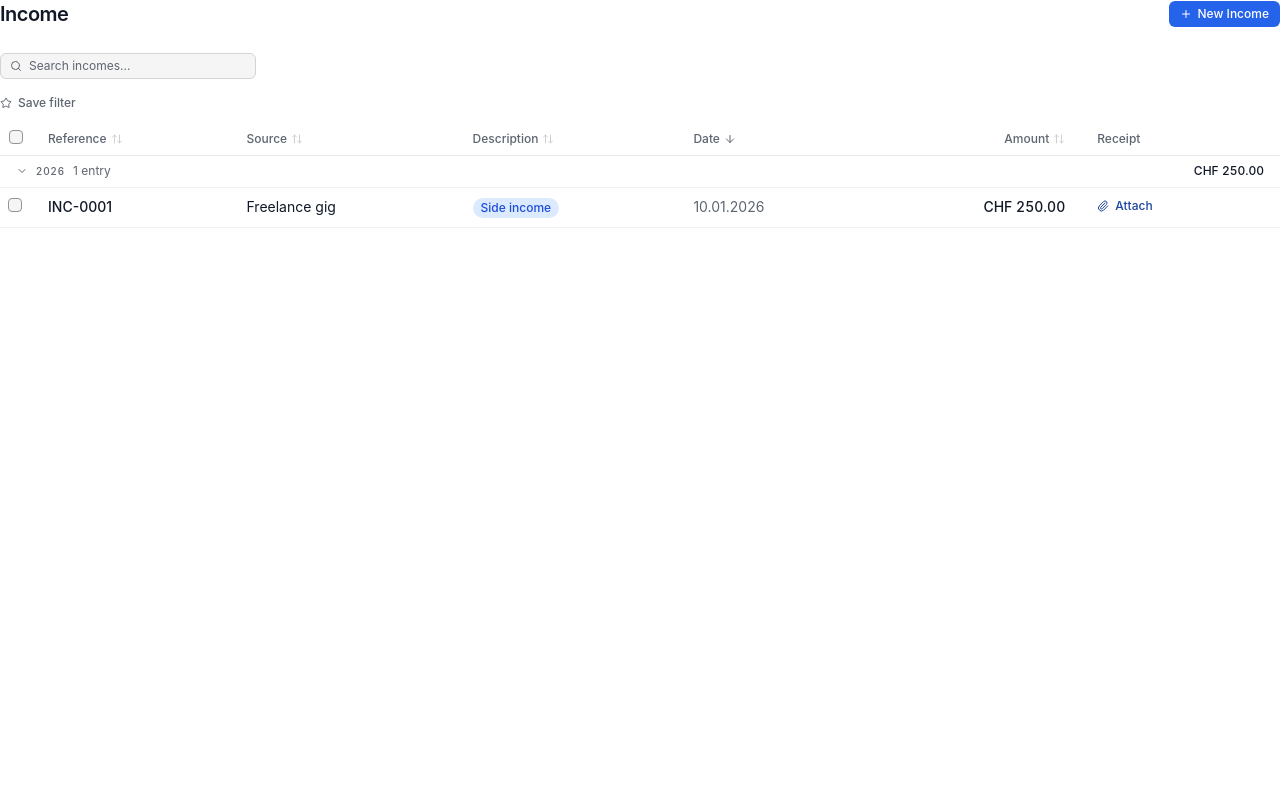
Test: Income category labels › shows the translated label on the row badge and in the edit form, agreeing with each other (EN)
The width and height of the screenshot is (1280, 800).
Check: the text "Side income" is shown, box [481,200,551,216]
Right-click the text "Freelance gig": (640,207) [0,187,1279,227]
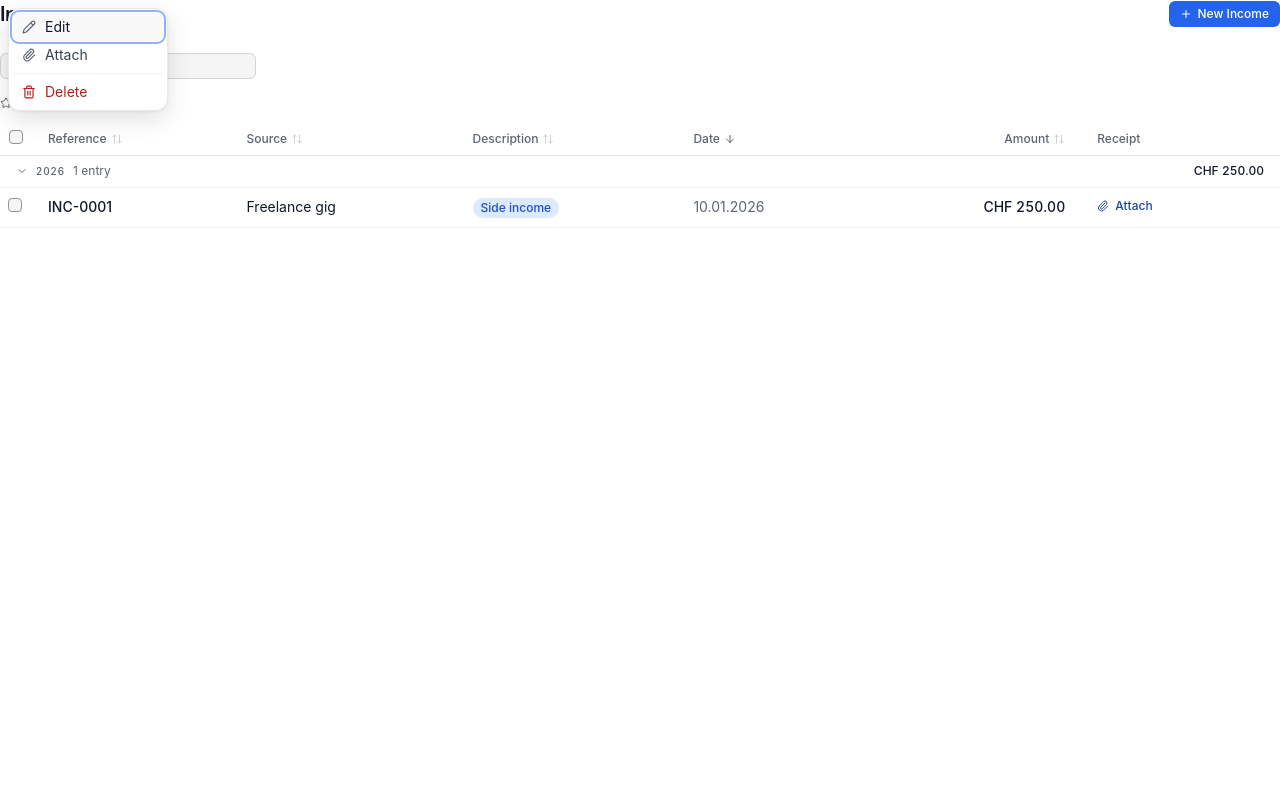
Click the menu item "Edit": (88,27) [13,13,163,41]
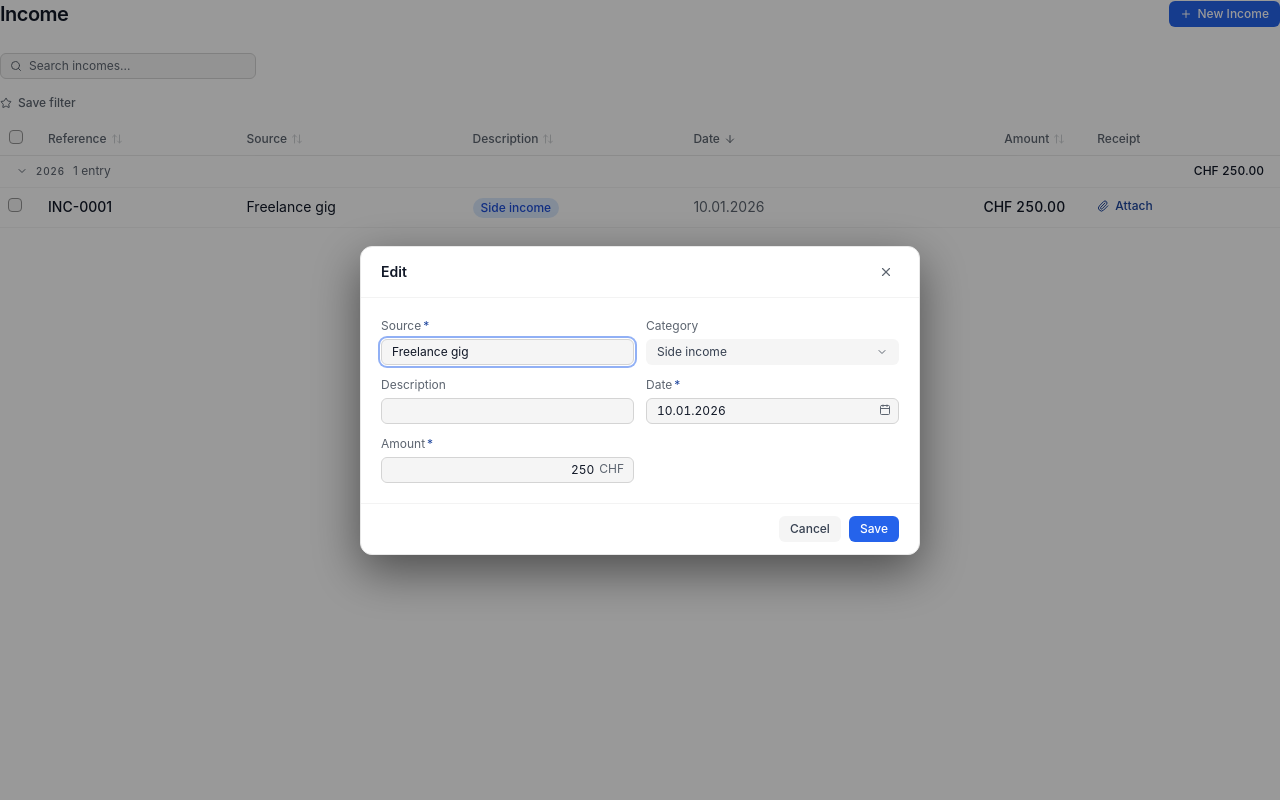
Check: the dropdown named "category" reads "Side income", box [646,338,899,364]
